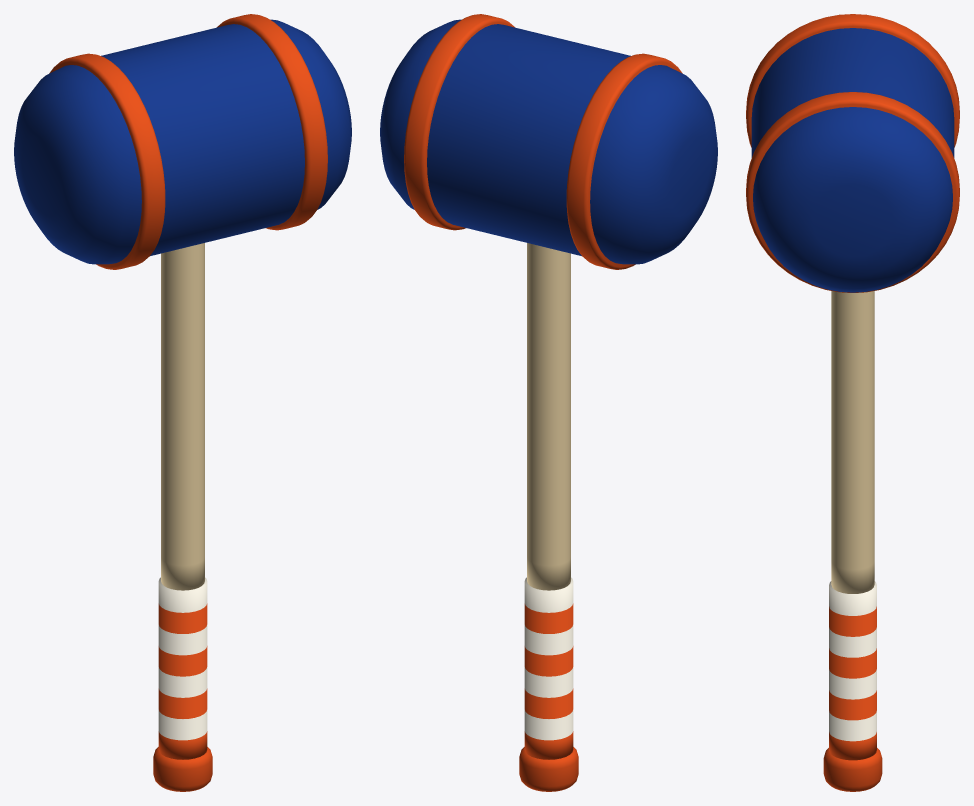
File: hammer_kidaru.fbx
3 views of the same model, side by side, from view 1: azimuth 30°, elevation 25°; view 2: azimuth 150°, elevation 25°; view 3: azimuth 270°, elevation 25° (orthographic).
Parts seen in each view (by area): view 1: kidaru_hammer; view 2: kidaru_hammer; view 3: kidaru_hammer.
Part boxes in pixels (x1,y1,x2,y2): kidaru_hammer: (14,14,351,791); kidaru_hammer: (380,14,717,791); kidaru_hammer: (746,14,959,791).
Bounding box in the file's own units: 1.04 × 2.61 × 0.696.
